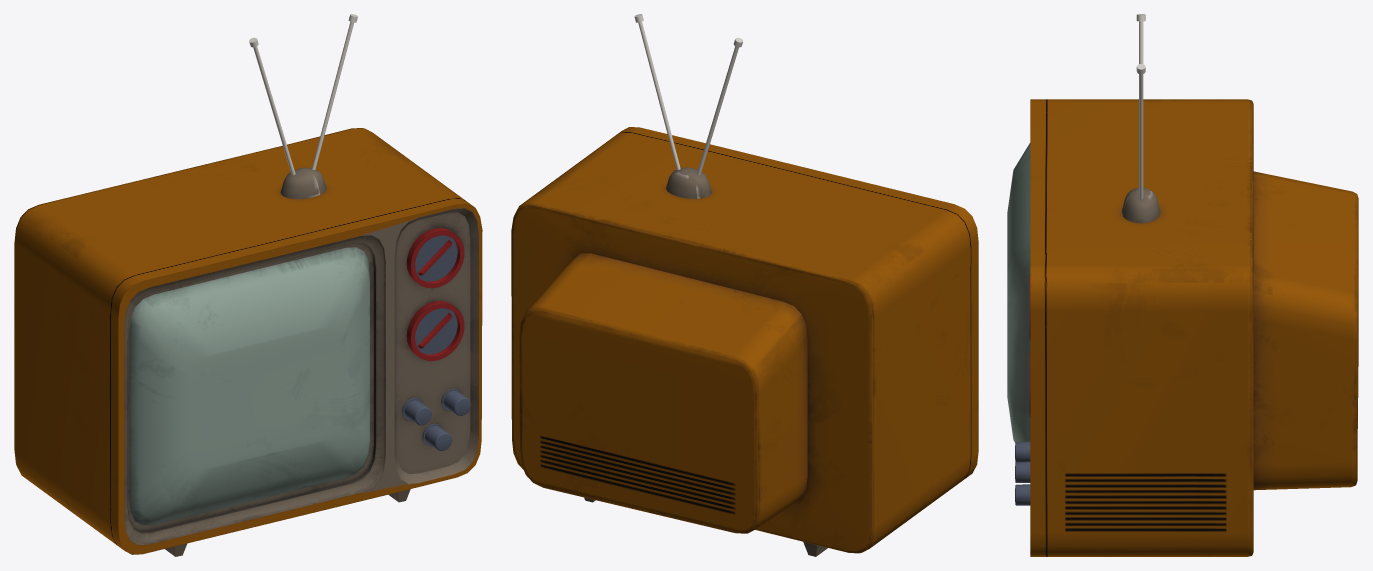
Rendered from retro_tv.obj.
The picture shows the model from 3 angles, left to right: view 1: azimuth 30°, elevation 25°; view 2: azimuth 150°, elevation 25°; view 3: azimuth 270°, elevation 25°; orthographic projection. The views are drawn at different scales.
Visible parts, largest first — view 1: Cylinder003.001, Cylinder003.004, Cylinder003, Cylinder, Cylinder.002, Cylinder.001, Cylinder004, Cylinder004.001, Cylinder004.002; view 2: Cylinder003.001, Cylinder, Cylinder.002, Cylinder.001; view 3: Cylinder003.001, Cylinder, Cylinder.002.
Part boxes in pixels (bbox=[...]): Cylinder003.001: bbox=[14, 128, 482, 554]; Cylinder003.004: bbox=[406, 300, 464, 361]; Cylinder003: bbox=[406, 228, 464, 288]; Cylinder: bbox=[280, 167, 326, 198]; Cylinder.002: bbox=[312, 14, 357, 169]; Cylinder.001: bbox=[249, 37, 295, 175]; Cylinder004: bbox=[402, 398, 431, 425]; Cylinder004.001: bbox=[441, 388, 470, 415]; Cylinder004.002: bbox=[422, 423, 452, 450]; Cylinder003.001: bbox=[511, 127, 978, 553]; Cylinder: bbox=[666, 167, 711, 198]; Cylinder.002: bbox=[634, 14, 680, 169]; Cylinder.001: bbox=[697, 37, 743, 175]; Cylinder003.001: bbox=[1007, 99, 1358, 556]; Cylinder: bbox=[1121, 187, 1160, 223]; Cylinder.002: bbox=[1136, 64, 1145, 199].
Bounding box in the file's own units: 2.13 × 2.54 × 1.68.
Materials: 1 (1 with a texture image).
